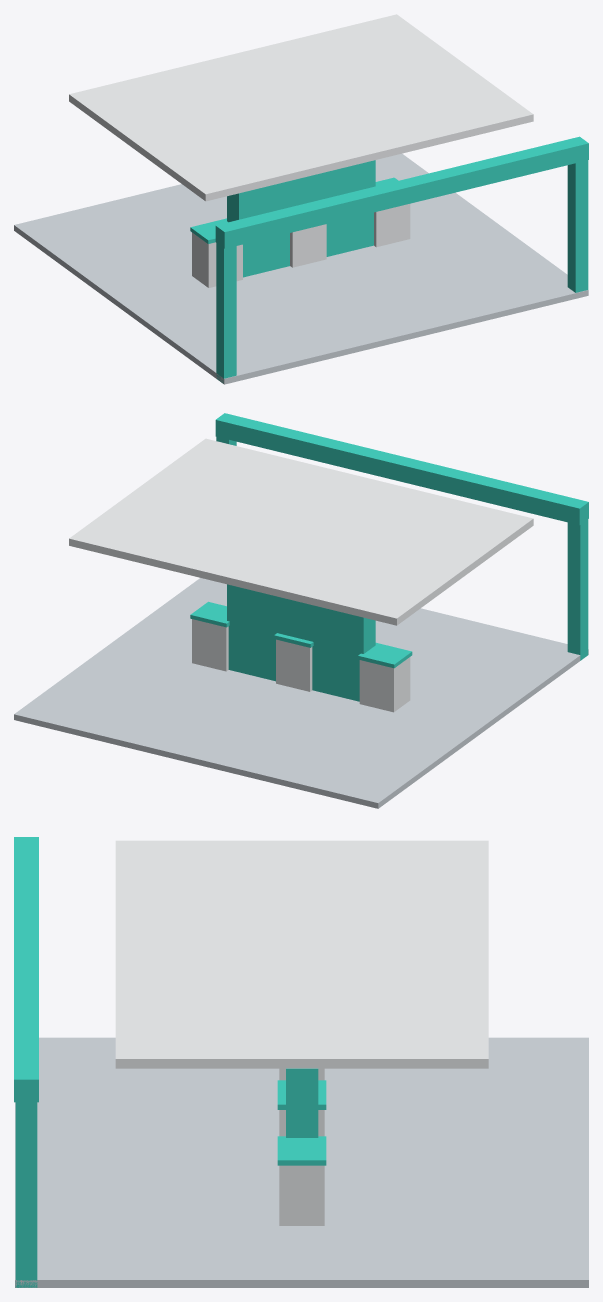
3 views of the same model, one above another, from view 1: azimuth 30°, elevation 25°; view 2: azimuth 150°, elevation 25°; view 3: azimuth 270°, elevation 25° (orthographic). The views are drawn at different scales.
Parts seen in each view (by area): view 1: Exhibition Booth Concept; view 2: Exhibition Booth Concept; view 3: Exhibition Booth Concept.
Part boxes in pixels (x1,y1,x2,y2): Exhibition Booth Concept: (14, 14, 588, 384); Exhibition Booth Concept: (14, 413, 588, 808); Exhibition Booth Concept: (14, 837, 588, 1287).
Size of the model in its own units: 8 by 3.34 by 8.01.
